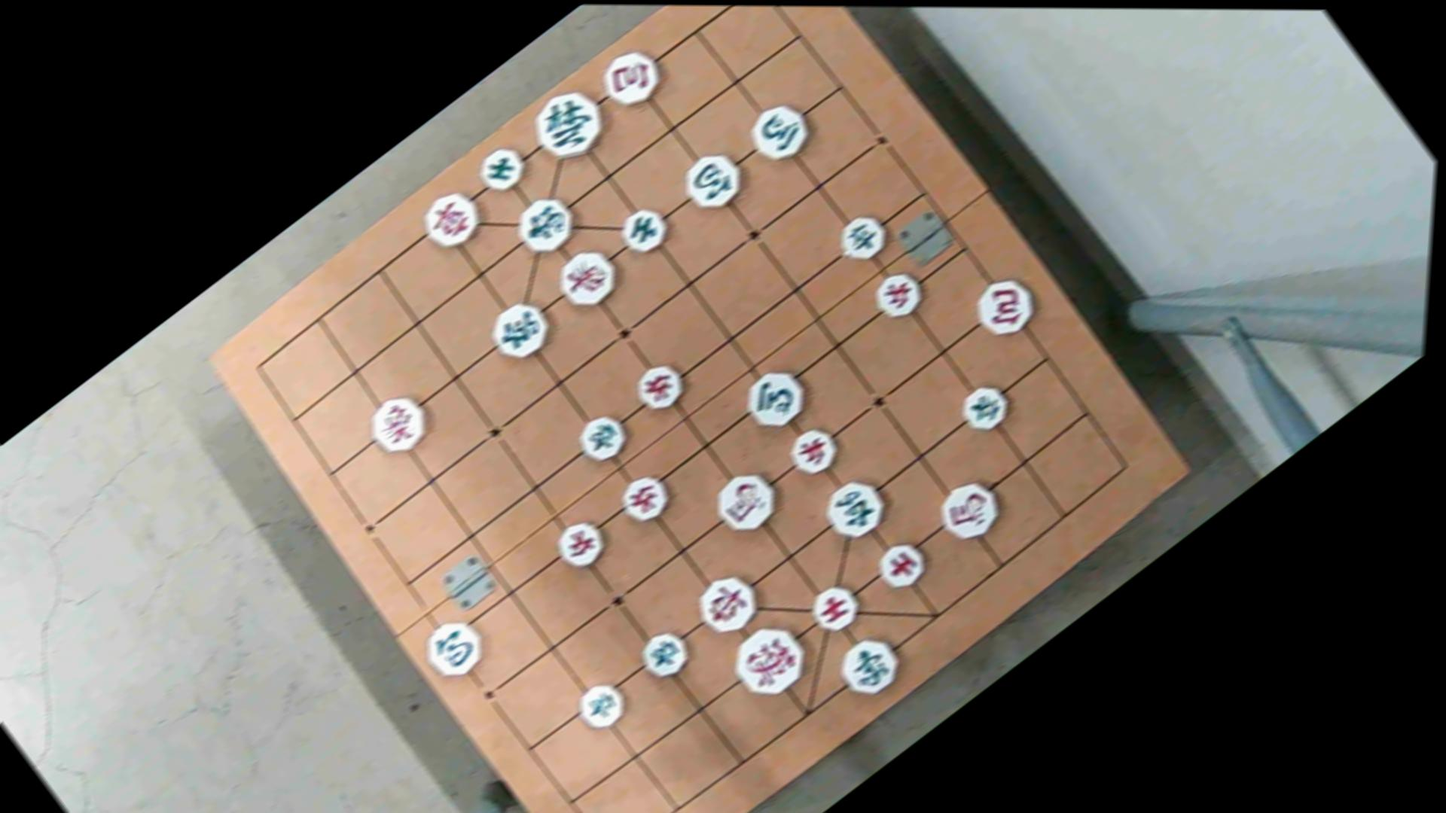cha_green: (815, 473, 895, 547), (479, 295, 557, 366)
cha_red: (686, 564, 770, 639), (412, 182, 490, 254)
jol_green: (632, 623, 699, 685), (950, 376, 1017, 437), (829, 207, 896, 267), (569, 407, 633, 466), (569, 676, 631, 732)
jol_red: (864, 265, 933, 328), (611, 466, 679, 528), (625, 356, 693, 418), (545, 513, 614, 574), (779, 419, 847, 480)
ma_green: (733, 361, 818, 438), (739, 93, 820, 169)
ma_red: (928, 472, 1011, 548), (706, 464, 784, 536)
po_green: (413, 609, 496, 686), (673, 144, 755, 218)
po_red: (964, 269, 1047, 344), (590, 40, 671, 114)
sa_green: (612, 199, 676, 258), (469, 139, 533, 197)
sa_red: (867, 535, 933, 596), (803, 577, 868, 638)
sang_green: (828, 629, 909, 704), (508, 190, 581, 257)
sang_red: (546, 240, 627, 314), (358, 387, 437, 460)
wang_green: (522, 82, 615, 169)
wang_red: (721, 619, 816, 706)
